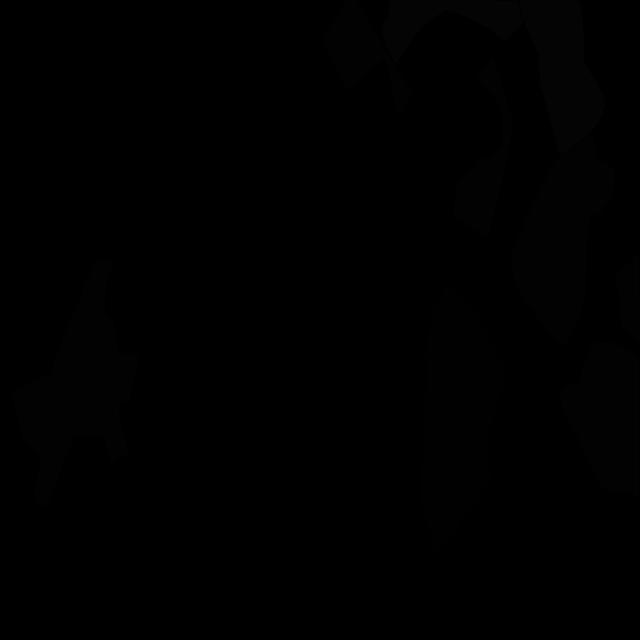cardboard: (11, 257, 140, 507), (511, 132, 615, 345), (558, 342, 639, 496), (452, 54, 514, 239), (322, 0, 412, 117), (614, 250, 640, 343)
rigid_plastic: (420, 281, 502, 558)
soft_plastic: (518, 0, 606, 156), (382, 0, 523, 64)
